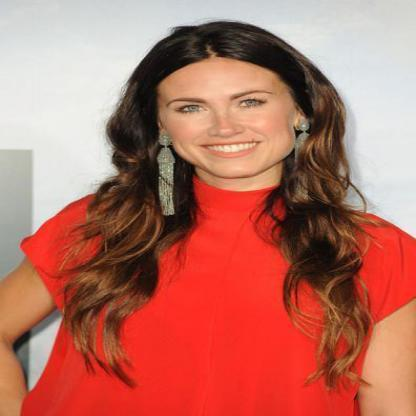long-hair: (69, 179, 382, 269)
